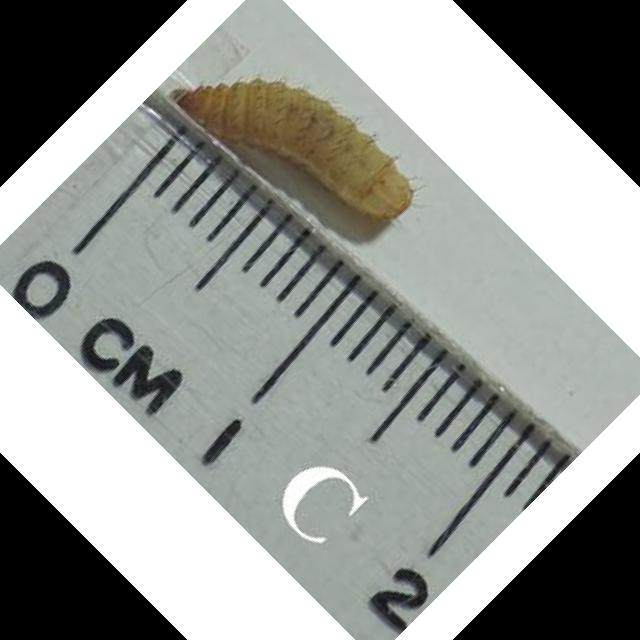Maggot: (171, 75, 416, 218)
